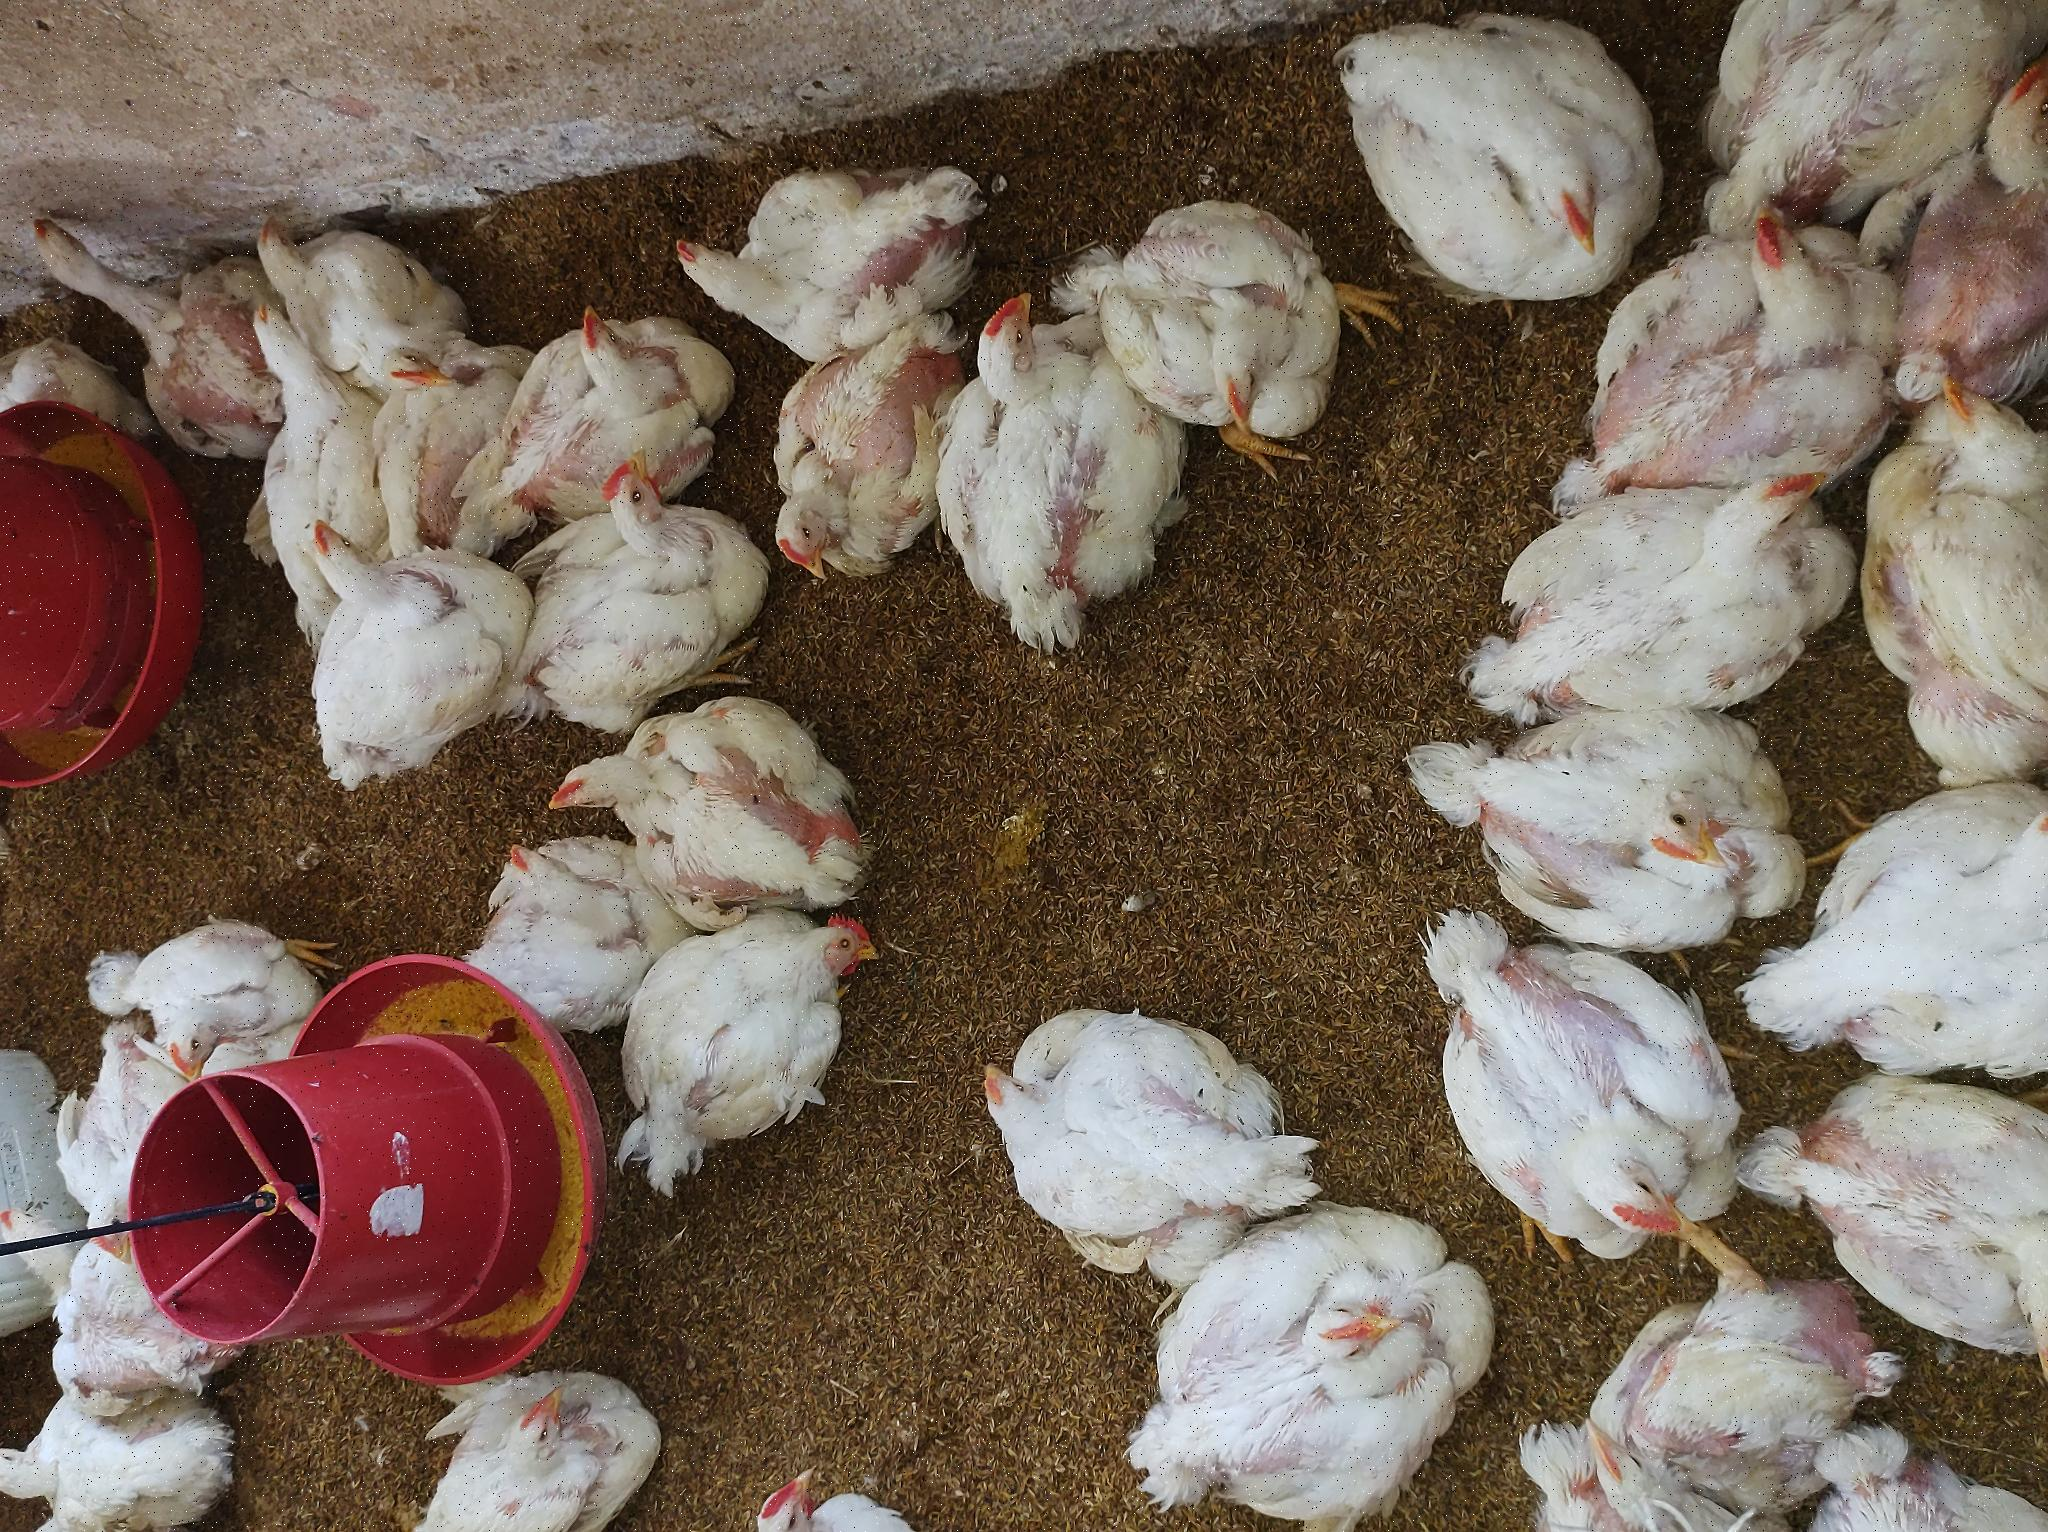Pollos: (23, 1118, 327, 1505), (857, 912, 1232, 1186), (339, 594, 623, 925), (314, 957, 544, 1321), (1181, 661, 1417, 983), (627, 563, 825, 945), (1076, 1098, 1355, 1353), (286, 1337, 635, 1532), (1091, 24, 1351, 261), (1244, 1336, 1527, 1532), (750, 298, 1046, 484), (475, 431, 698, 677), (1041, 496, 1252, 747), (2, 396, 175, 674), (968, 235, 1229, 414), (845, 499, 1023, 755), (476, 60, 637, 336), (134, 32, 317, 274), (2, 2, 201, 220), (948, 752, 1166, 945), (286, 47, 487, 248), (550, 1415, 841, 1532), (1203, 253, 1351, 483)
